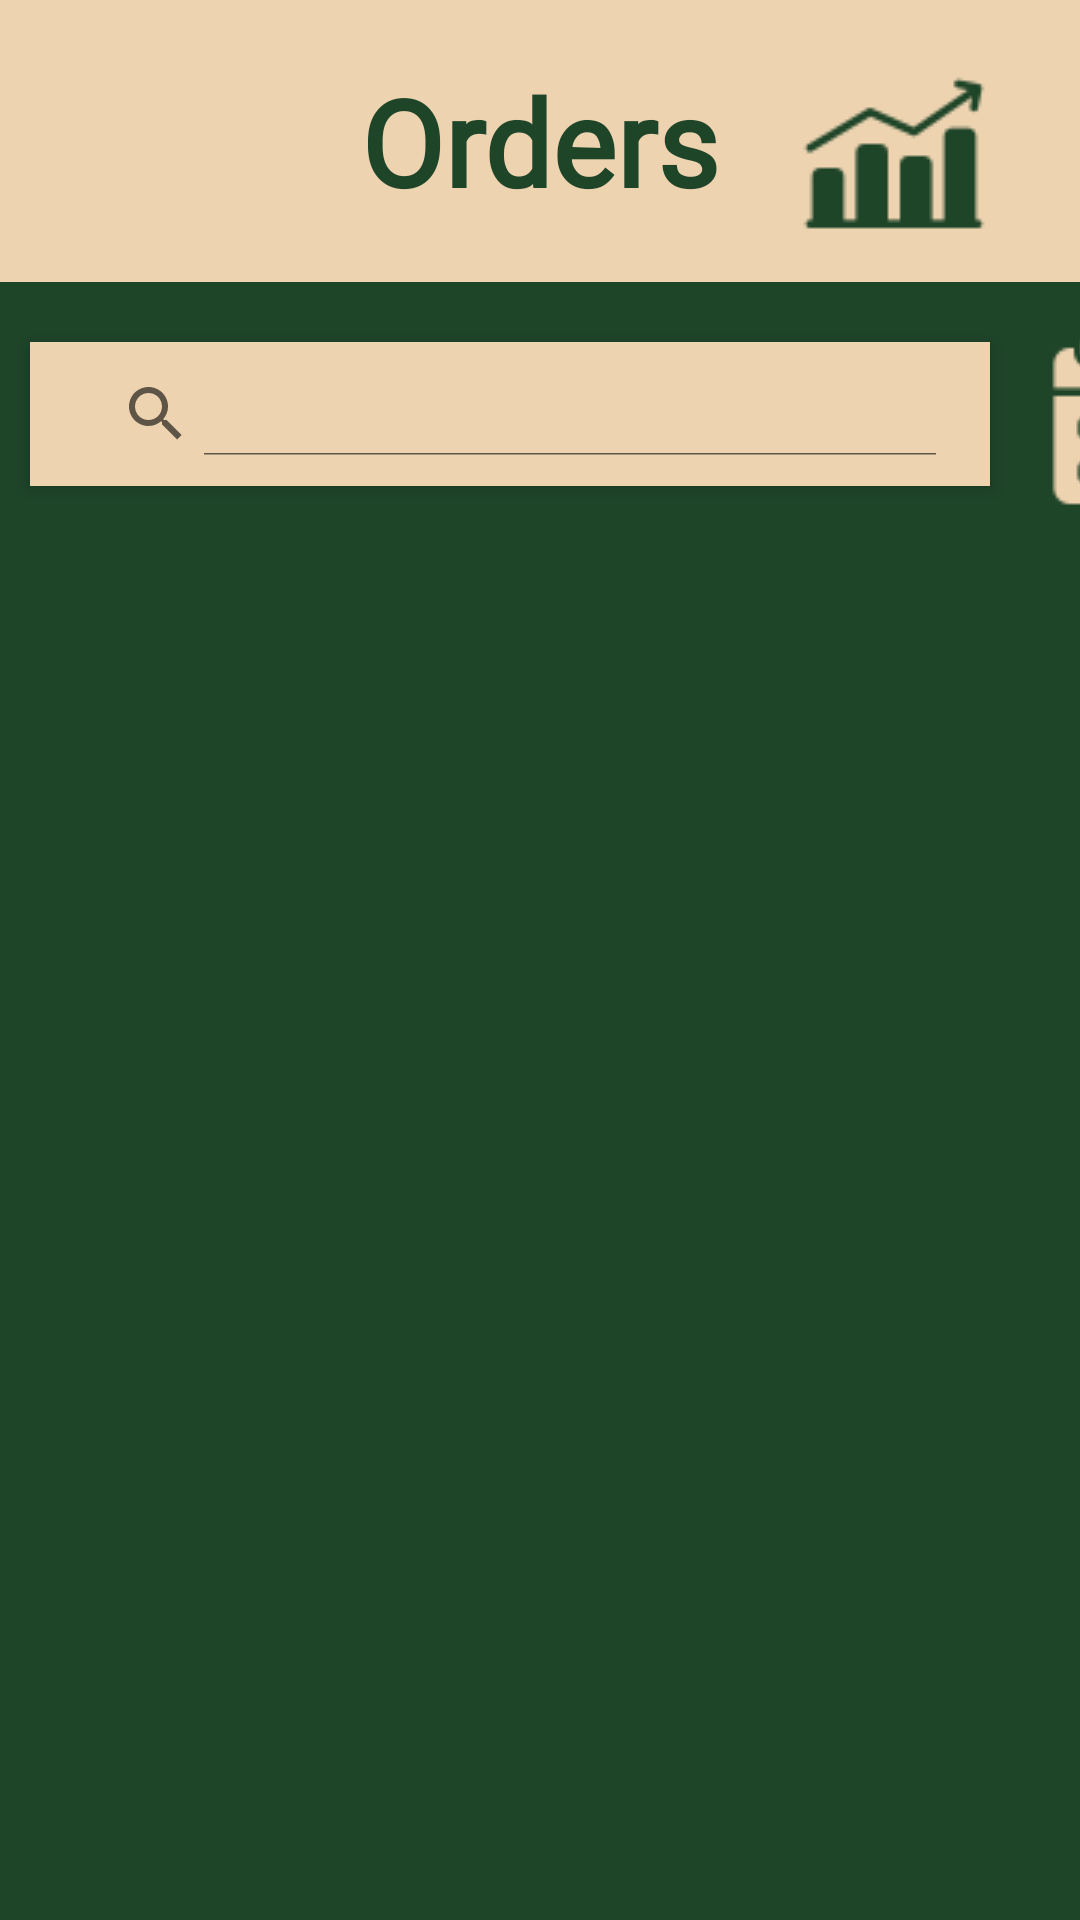

Where icons sit on this 1080*1920 app screen, as box(x1, y1, x2, y2):
chart: box(804, 78, 984, 229)
